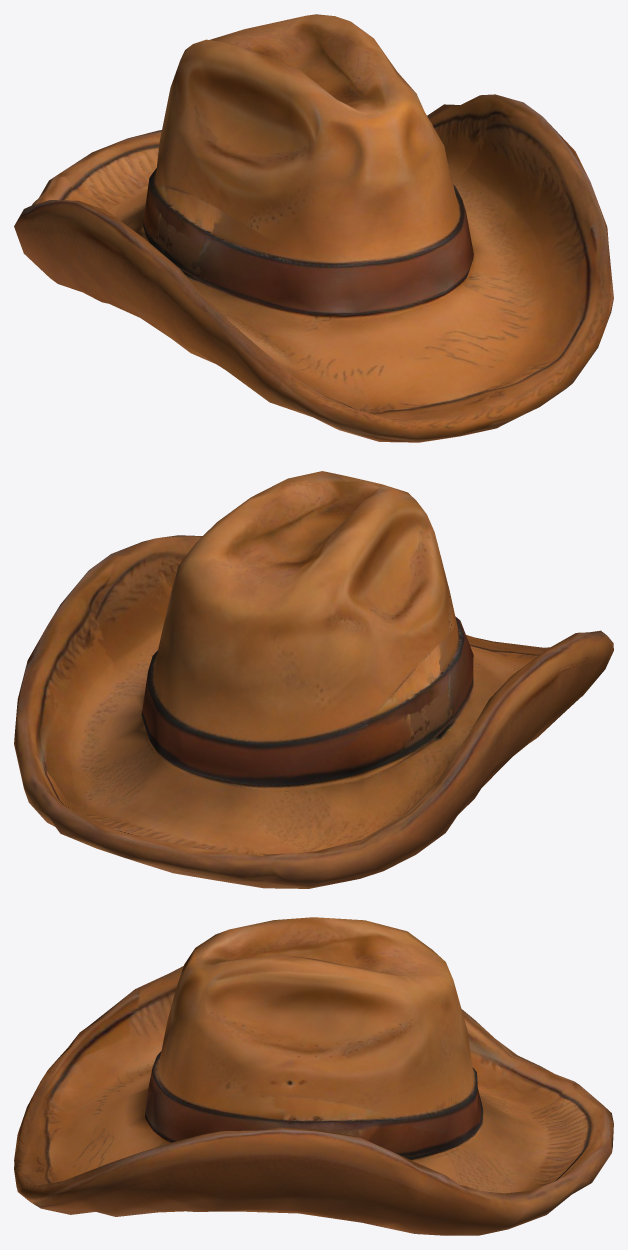
File: Cowboy_Hat_Illustrati_1014145552_texture.fbx
3 renders of one model, top to bottom at view 1: azimuth 30°, elevation 25°; view 2: azimuth 150°, elevation 25°; view 3: azimuth 270°, elevation 25°, orthographic. The views are drawn at different scales.
Visible parts, largest first — view 1: Mesh1.0; view 2: Mesh1.0; view 3: Mesh1.0.
Boxes of the visible parts, x1,y1,x2,y2 form: Mesh1.0: [14, 14, 613, 442]; Mesh1.0: [14, 471, 613, 888]; Mesh1.0: [14, 917, 613, 1235].
Bounding box in the file's own units: 144 × 85.59 × 191.
Materials: 1 (1 with a texture image).
